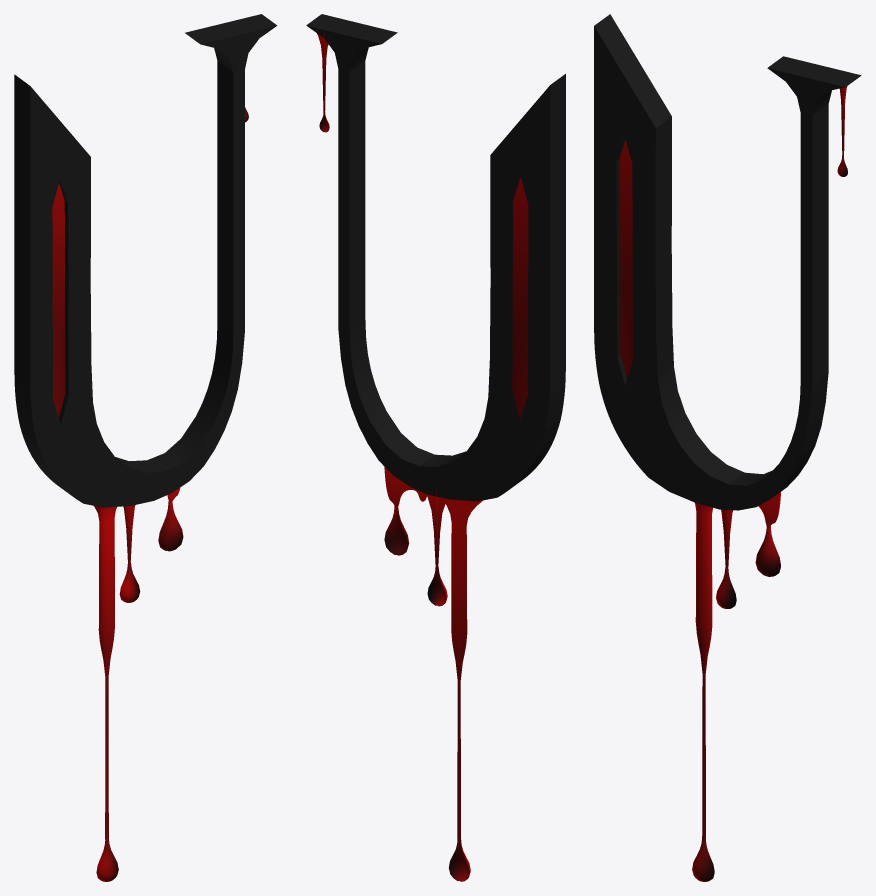
The picture shows the model from 3 angles, left to right: view 1: azimuth 30°, elevation 25°; view 2: azimuth 150°, elevation 25°; view 3: azimuth 330°, elevation 25°; orthographic projection. The views are drawn at different scales.
Visible parts, largest first — view 1: U, Blood_161, U_Element, Blood_211, Blood_260; view 2: U, Blood_161, U_Element, Blood_260, Blood_211; view 3: U, Blood_161, U_Element, Blood_260, Blood_211.
Part boxes in pixels (<box>): U: <box>14,14,277,507</box>; Blood_161: <box>94,506,118,881</box>; U_Element: <box>52,183,65,417</box>; Blood_211: <box>119,505,140,602</box>; Blood_260: <box>158,488,183,551</box>; U: <box>306,14,565,501</box>; Blood_161: <box>445,499,482,881</box>; U_Element: <box>512,177,528,419</box>; Blood_260: <box>384,467,426,555</box>; Blood_211: <box>427,490,447,606</box>; U: <box>594,14,861,510</box>; Blood_161: <box>692,503,714,881</box>; U_Element: <box>620,140,632,378</box>; Blood_260: <box>755,492,780,576</box>; Blood_211: <box>716,509,736,608</box>.
Bounding box in the file's own units: 44.9 × 144 × 5.03.
Materials: 2 (1 with a texture image).
